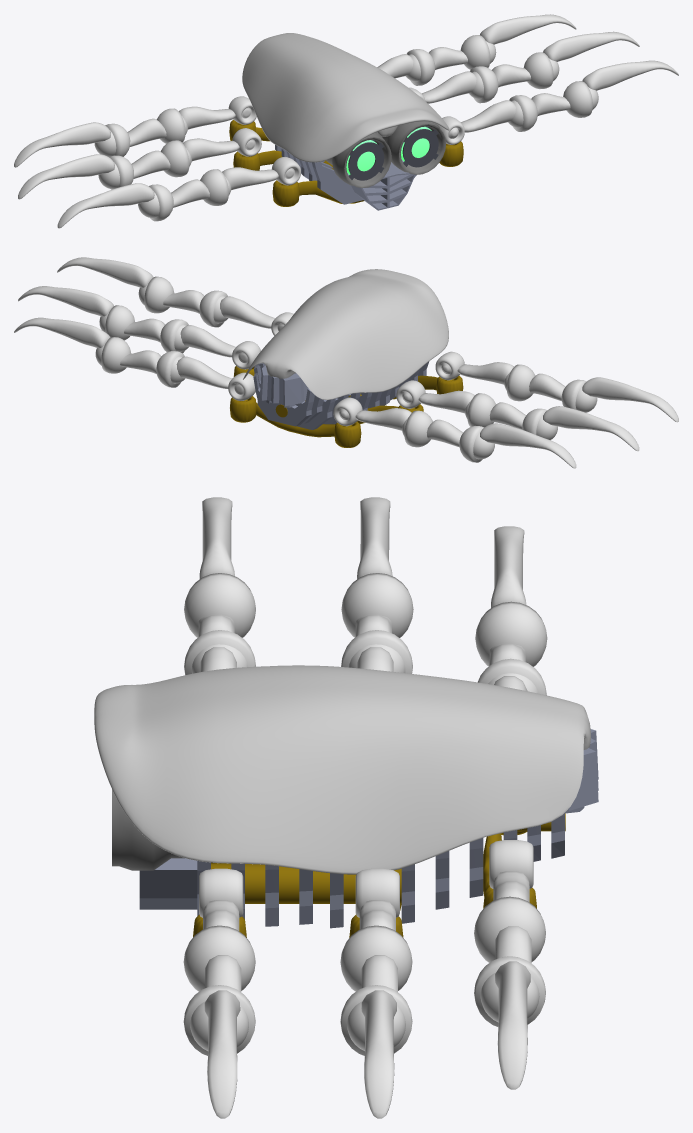
File: aranha_material.glb
3 renders of one model, top to bottom at view 1: azimuth 30°, elevation 25°; view 2: azimuth 150°, elevation 25°; view 3: azimuth 270°, elevation 25°, orthographic. The views are drawn at different scales.
Parts seen in each view (by area): view 1: Arainha_Pernas_v001:Layer1, Arainha_Pernas_v001:Layer3_(2), Arainha_Pernas_v001:Layer3_(1), Arainha_Pernas_v001:Layer3_(4), Arainha_Pernas_v001:Layer3_(3), Arainha_Pernas_v001:Layer3_(5), Arainha_Pernas_v001:Layer3_(6), Arainha_Pernas_v001:Layer4_(4), Arainha_Pernas_v001:Layer4_(5), Arainha_Pernas_v001:Layer4_(6), Arainha_Pernas_v001:Layer5, Arainha_Pernas_v001:Layer2_(1) (+8 smaller); view 2: Arainha_Pernas_v001:Layer1, Arainha_Pernas_v001:Layer3_(3), Arainha_Pernas_v001:Layer3_(1), Arainha_Pernas_v001:Layer3_(6), Arainha_Pernas_v001:Layer3_(4), Arainha_Pernas_v001:Layer3_(2), Arainha_Pernas_v001:Layer4_(6), Arainha_Pernas_v001:Layer4_(4), Arainha_Pernas_v001:Layer4_(5), Arainha_Pernas_v001:Layer2_(3), Arainha_Pernas_v001:Layer3_(5), Arainha_Pernas_v001:Layer2_(2) (+7 smaller); view 3: Arainha_Pernas_v001:Layer1, Arainha_Pernas_v001:Layer3_(2), Arainha_Pernas_v001:Layer3_(1), Arainha_Pernas_v001:Layer3_(3), Arainha_Pernas_v001:Layer3_(5), Arainha_Pernas_v001:Layer3_(4), Arainha_Pernas_v001:Layer3_(6), Arainha_Pernas_v001:Layer4_(1), Arainha_Pernas_v001:Layer4_(3), Arainha_Pernas_v001:Layer4_(2), Arainha_Pernas_v001:Layer2_(2), Arainha_Pernas_v001:Layer2_(1) (+6 smaller).
Boxes of the visible parts, left/top/right/bottom form: Arainha_Pernas_v001:Layer1: left=229, top=33, right=463, bottom=210; Arainha_Pernas_v001:Layer3_(2): left=470, top=52, right=553, bottom=103; Arainha_Pernas_v001:Layer3_(1): left=509, top=81, right=592, bottom=131; Arainha_Pernas_v001:Layer3_(4): left=149, top=169, right=228, bottom=221; Arainha_Pernas_v001:Layer3_(3): left=407, top=35, right=490, bottom=85; Arainha_Pernas_v001:Layer3_(5): left=109, top=140, right=189, bottom=189; Arainha_Pernas_v001:Layer3_(6): left=105, top=108, right=185, bottom=156; Arainha_Pernas_v001:Layer4_(4): left=57, top=183, right=159, bottom=228; Arainha_Pernas_v001:Layer4_(5): left=18, top=154, right=119, bottom=199; Arainha_Pernas_v001:Layer4_(6): left=14, top=122, right=116, bottom=167; Arainha_Pernas_v001:Layer5: left=348, top=129, right=438, bottom=180; Arainha_Pernas_v001:Layer2_(1): left=437, top=100, right=523, bottom=144; Arainha_Pernas_v001:Layer1: left=230, top=269, right=463, bottom=447; Arainha_Pernas_v001:Layer3_(3): left=101, top=337, right=184, bottom=387; Arainha_Pernas_v001:Layer3_(1): left=144, top=276, right=227, bottom=327; Arainha_Pernas_v001:Layer3_(6): left=404, top=410, right=484, bottom=462; Arainha_Pernas_v001:Layer3_(4): left=506, top=364, right=586, bottom=409; Arainha_Pernas_v001:Layer3_(2): left=105, top=305, right=188, bottom=353; Arainha_Pernas_v001:Layer4_(6): left=473, top=423, right=576, bottom=468; Arainha_Pernas_v001:Layer4_(4): left=575, top=377, right=678, bottom=422; Arainha_Pernas_v001:Layer4_(5): left=536, top=406, right=639, bottom=451; Arainha_Pernas_v001:Layer2_(3): left=170, top=356, right=255, bottom=400; Arainha_Pernas_v001:Layer3_(5): left=467, top=393, right=546, bottom=434; Arainha_Pernas_v001:Layer2_(2): left=174, top=324, right=260, bottom=369; Arainha_Pernas_v001:Layer1: left=94, top=665, right=598, bottom=937; Arainha_Pernas_v001:Layer3_(2): left=340, top=925, right=412, bottom=1055; Arainha_Pernas_v001:Layer3_(1): left=183, top=925, right=255, bottom=1055; Arainha_Pernas_v001:Layer3_(3): left=474, top=896, right=545, bottom=1026; Arainha_Pernas_v001:Layer3_(5): left=341, top=573, right=413, bottom=673; Arainha_Pernas_v001:Layer3_(4): left=184, top=573, right=255, bottom=675; Arainha_Pernas_v001:Layer3_(6): left=475, top=601, right=547, bottom=695; Arainha_Pernas_v001:Layer4_(1): left=190, top=990, right=248, bottom=1118; Arainha_Pernas_v001:Layer4_(3): left=480, top=961, right=539, bottom=1089; Arainha_Pernas_v001:Layer4_(2): left=347, top=990, right=405, bottom=1118; Arainha_Pernas_v001:Layer2_(2): left=355, top=868, right=399, bottom=930; Arainha_Pernas_v001:Layer2_(1): left=199, top=868, right=243, bottom=930.
Size of the model in its own units: 21.01 by 3.74 by 7.41.
